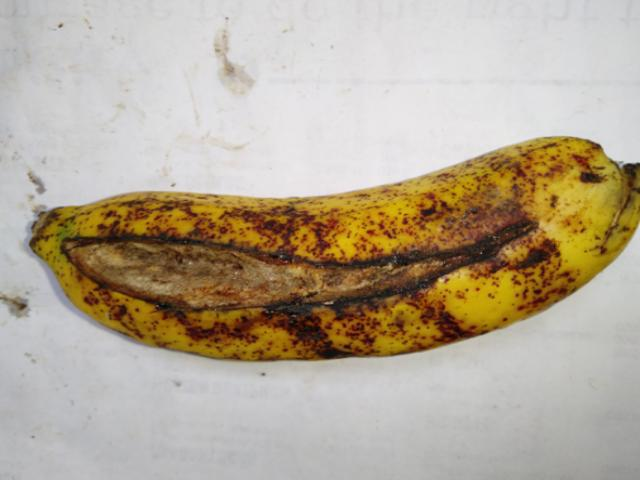rotten: (38, 188, 550, 362)
